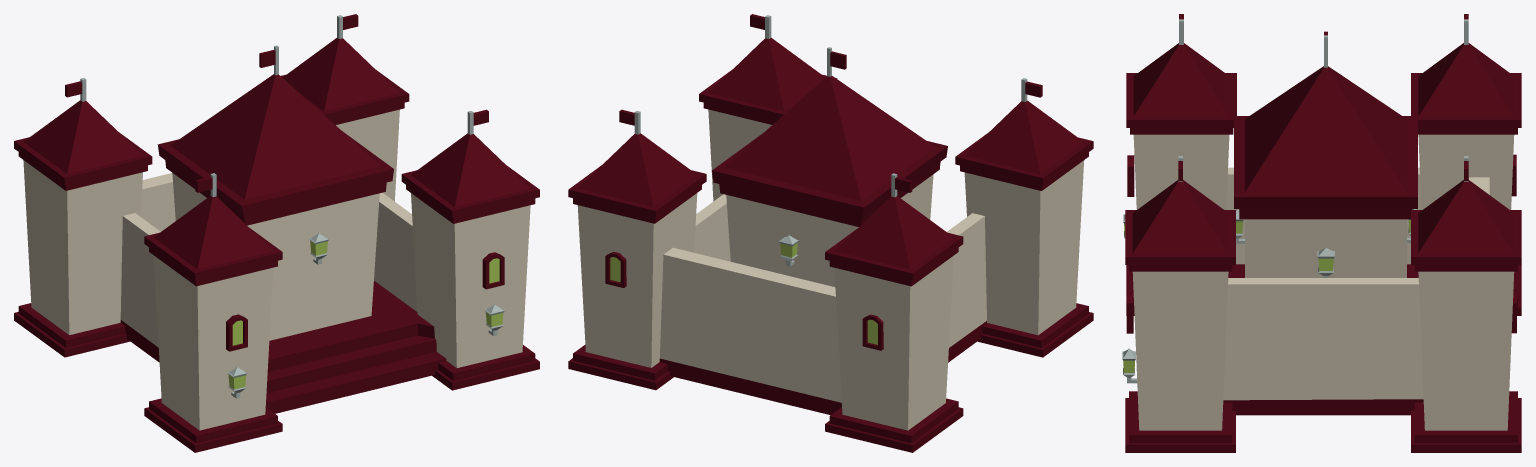
The model's file is F_CASTLE_01.fbx.
3 renders of one model, left to right at view 1: azimuth 30°, elevation 25°; view 2: azimuth 150°, elevation 25°; view 3: azimuth 270°, elevation 25°, orthographic. The views are drawn at different scales.
Visible parts, largest first — view 1: F_Castle_01; view 2: F_Castle_01; view 3: F_Castle_01.
Part boxes in pixels (x1=…): F_Castle_01: x1=14, y1=14, x2=539, y2=452; F_Castle_01: x1=568, y1=14, x2=1093, y2=452; F_Castle_01: x1=1122, y1=14, x2=1521, y2=452.
Bounding box in the file's own units: 2084 × 1719 × 1915.
